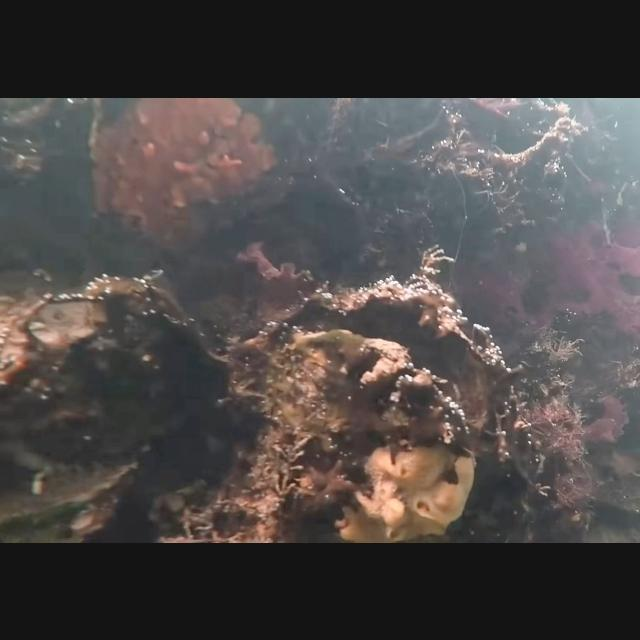Oyster-Closed: (89, 96, 277, 252)
Oyster-Open: (226, 278, 492, 542), (0, 284, 150, 424), (0, 460, 140, 542)
